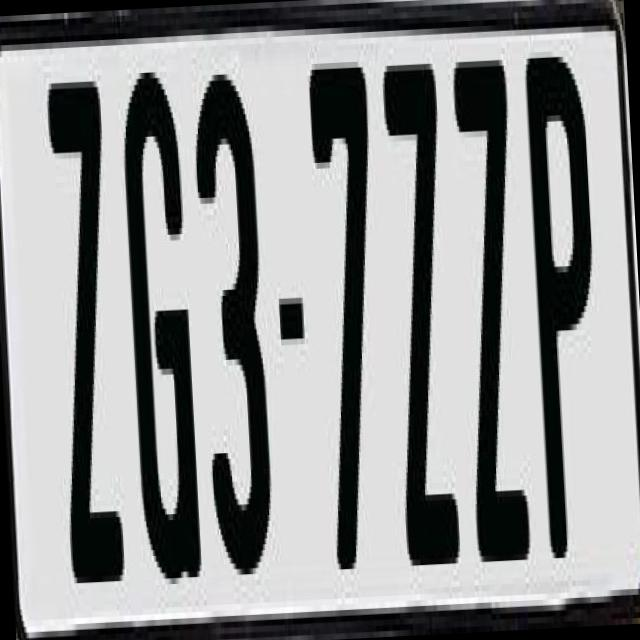3: (192, 61, 286, 582)
7: (308, 67, 400, 582)
G: (114, 59, 204, 574)
P: (522, 49, 611, 558)
Z: (446, 48, 536, 586), (378, 45, 463, 578), (44, 68, 133, 572)
